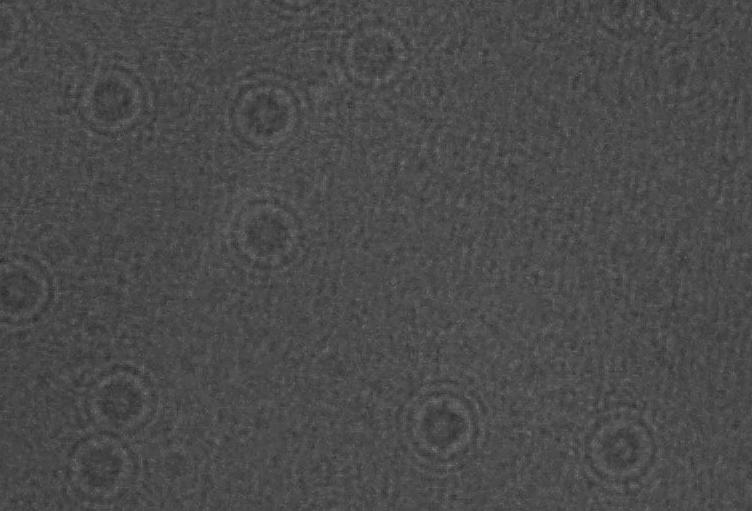bead: (555, 402, 683, 493), (214, 188, 317, 285), (210, 66, 314, 159), (388, 378, 491, 471), (62, 360, 168, 442), (64, 57, 159, 143), (51, 431, 150, 511), (336, 15, 419, 103), (0, 248, 66, 336), (0, 0, 40, 73)
